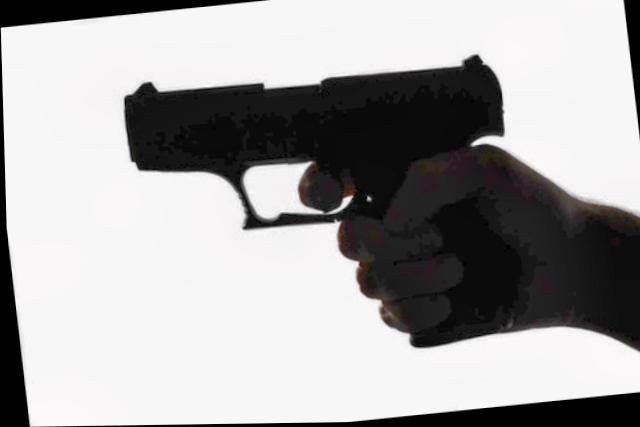pistol: (118, 44, 534, 374)
